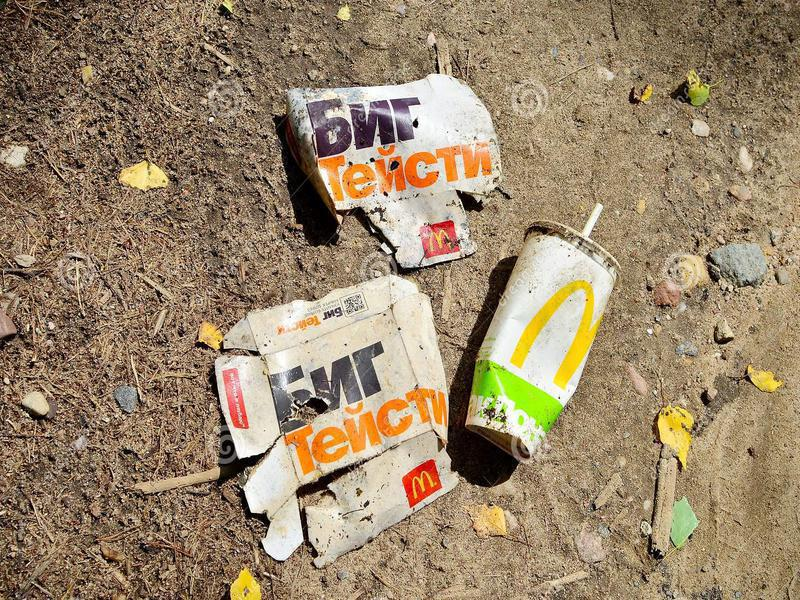cardboard: (209, 274, 463, 570), (275, 75, 519, 272)
cup: (459, 202, 631, 467)
